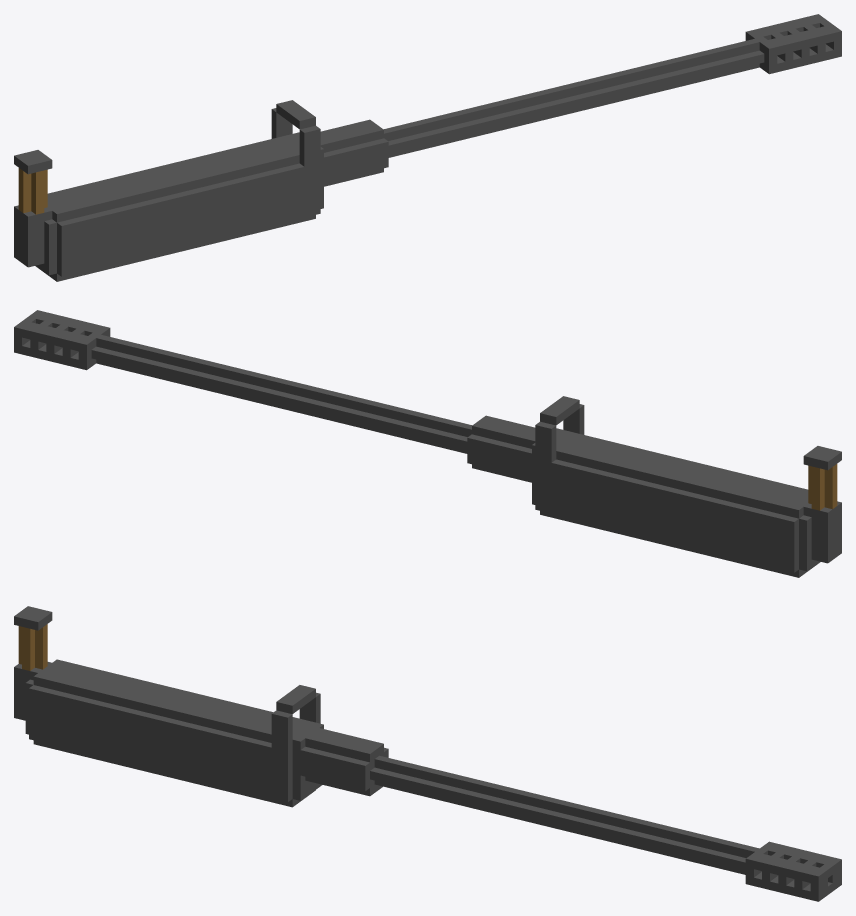
File: autoCannon.obj
The picture shows the model from 3 angles, top to bottom: view 1: azimuth 30°, elevation 25°; view 2: azimuth 150°, elevation 25°; view 3: azimuth 330°, elevation 25°; orthographic projection.
Bounding box in the file's own units: 10 × 1.4 × 0.7.
1 material, 1 textured.
